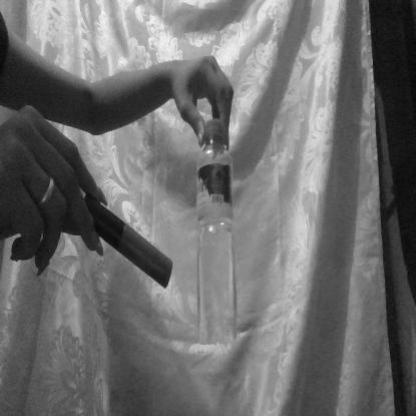Plastic Bottle: (190, 116, 236, 359)
